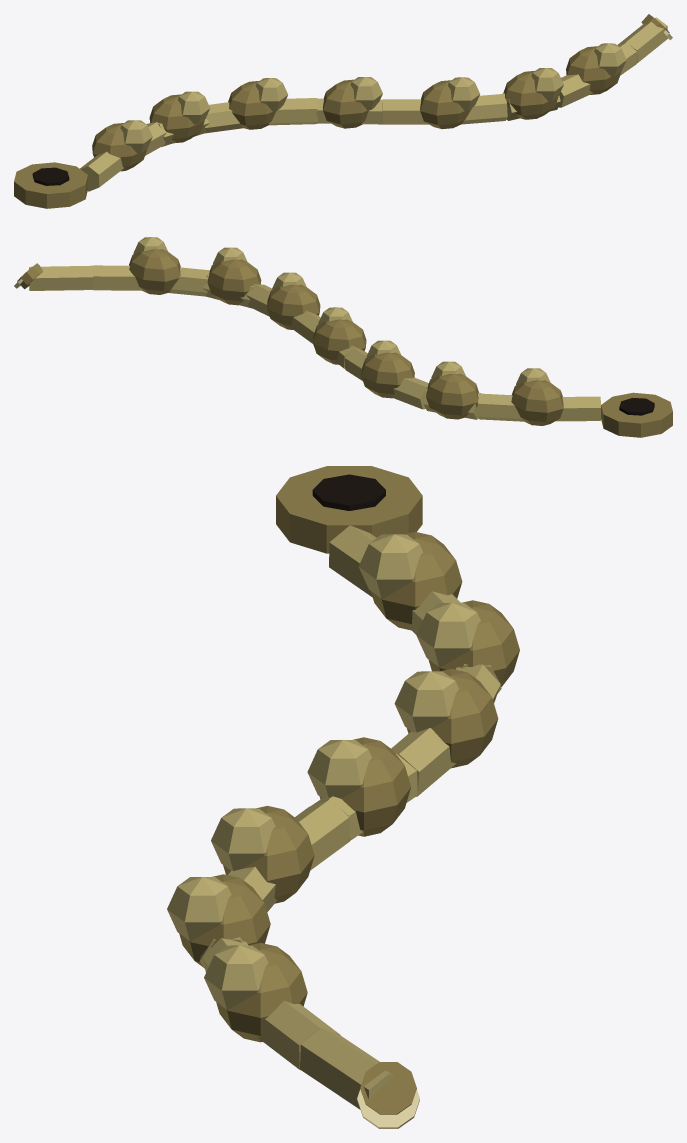
Rendered from prop_closeup_rope7.glb.
The picture shows the model from 3 angles, top to bottom: view 1: azimuth 30°, elevation 25°; view 2: azimuth 150°, elevation 25°; view 3: azimuth 270°, elevation 25°; orthographic projection. The views are drawn at different scales.
Visible parts, largest first — view 1: prop_closeup_rope7; view 2: prop_closeup_rope7; view 3: prop_closeup_rope7.
Boxes of the visible parts, x1=… form: prop_closeup_rope7: x1=14, y1=14, x2=672, y2=208; prop_closeup_rope7: x1=14, y1=237, x2=672, y2=437; prop_closeup_rope7: x1=167, y1=466, x2=519, y2=1128.
Size of the model in its own units: 1.41 by 0.104 by 0.3366.
